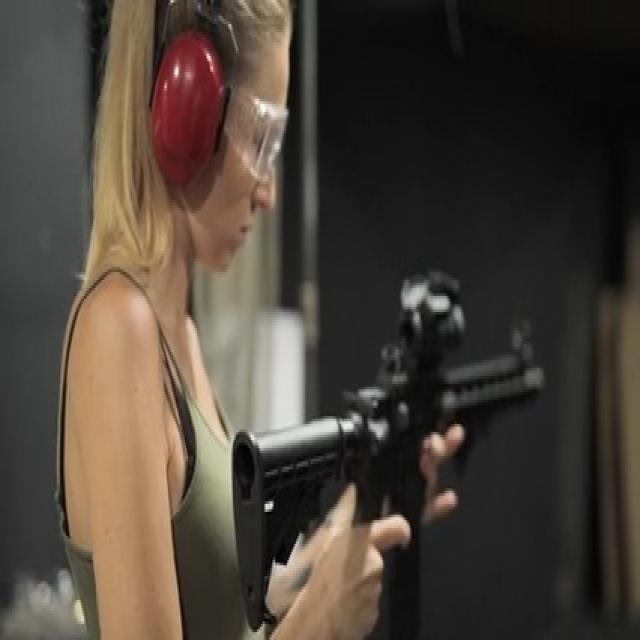Gun_Holder: (216, 253, 618, 640)
Person: (53, 0, 403, 640)
